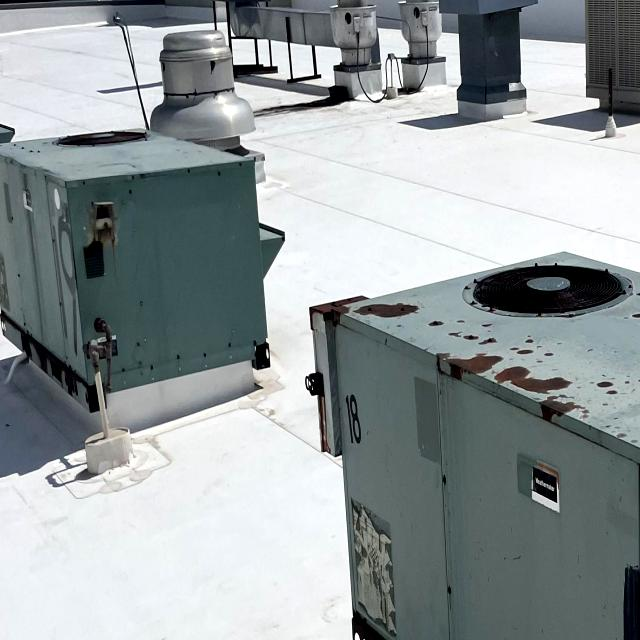GRAVITY-VENT: (142, 27, 267, 190), (330, 0, 383, 87), (400, 0, 443, 70)
RTU: (308, 246, 640, 640), (0, 124, 292, 416)
SPLIT-SYSTEM: (584, 0, 640, 115)
